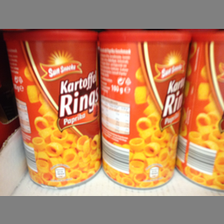chips: (5, 32, 104, 189), (100, 31, 189, 189), (179, 33, 223, 188)
